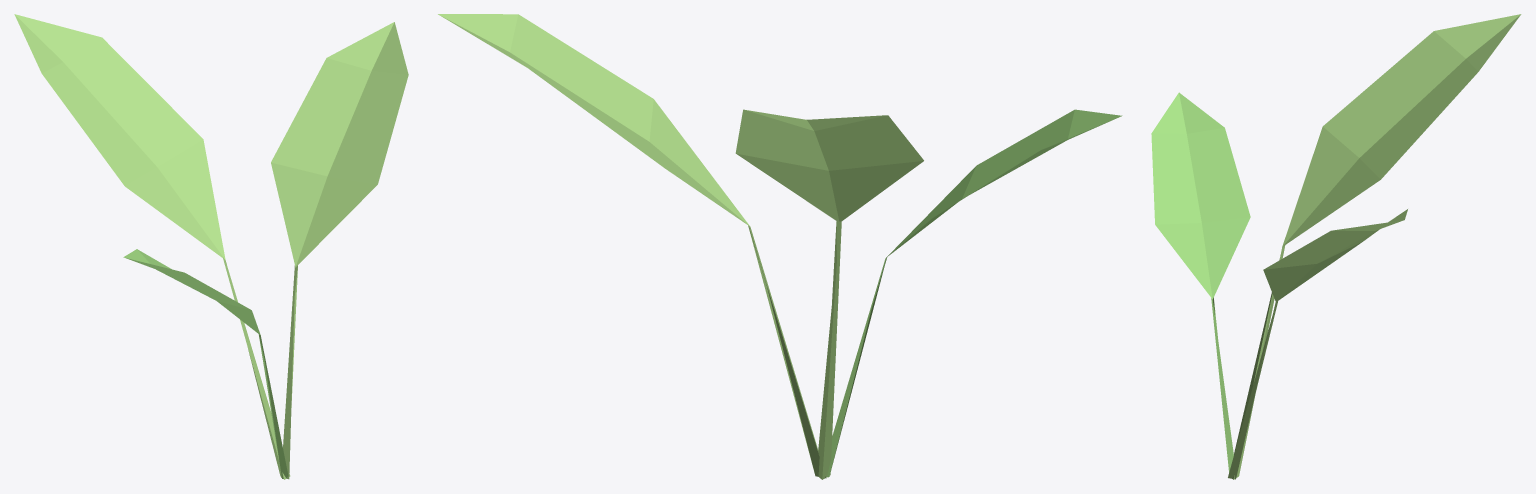
Rendered from Plant_j_OneS_08.fbx.
The picture shows the model from 3 angles, left to right: view 1: azimuth 30°, elevation 25°; view 2: azimuth 150°, elevation 25°; view 3: azimuth 270°, elevation 25°; orthographic projection. The views are drawn at different scales.
Parts seen in each view (by area): view 1: Plant_j_OneS_08; view 2: Plant_j_OneS_08; view 3: Plant_j_OneS_08.
Part boxes in pixels (left/top/right/bottom): Plant_j_OneS_08: left=14, top=14, right=408, bottom=479; Plant_j_OneS_08: left=438, top=14, right=1122, bottom=479; Plant_j_OneS_08: left=1151, top=14, right=1521, bottom=479.
Size of the model in its own units: 0.2747 by 0.269 by 0.2261.
